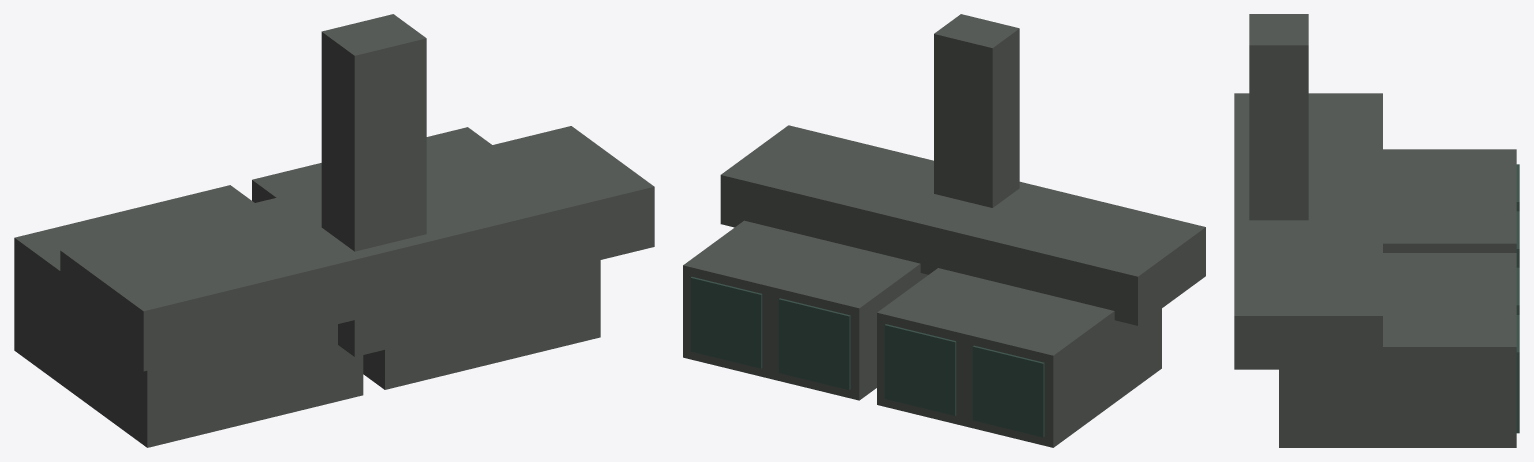
The model's file is nvg_gpnvg18.glb.
3 renders of one model, left to right at view 1: azimuth 30°, elevation 25°; view 2: azimuth 150°, elevation 25°; view 3: azimuth 270°, elevation 25°, orthographic. The views are drawn at different scales.
Parts seen in each view (by area): view 1: goggle_mesh; view 2: goggle_mesh; view 3: goggle_mesh.
Boxes of the visible parts, x1,y1,x2,y2 form: goggle_mesh: [14, 14, 654, 447]; goggle_mesh: [683, 14, 1205, 447]; goggle_mesh: [1234, 14, 1519, 447].
Size of the model in its own units: 0.355 by 0.2375 by 0.192.
